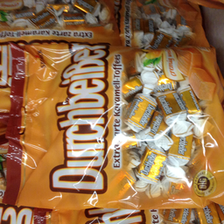candy: (9, 42, 221, 206)
